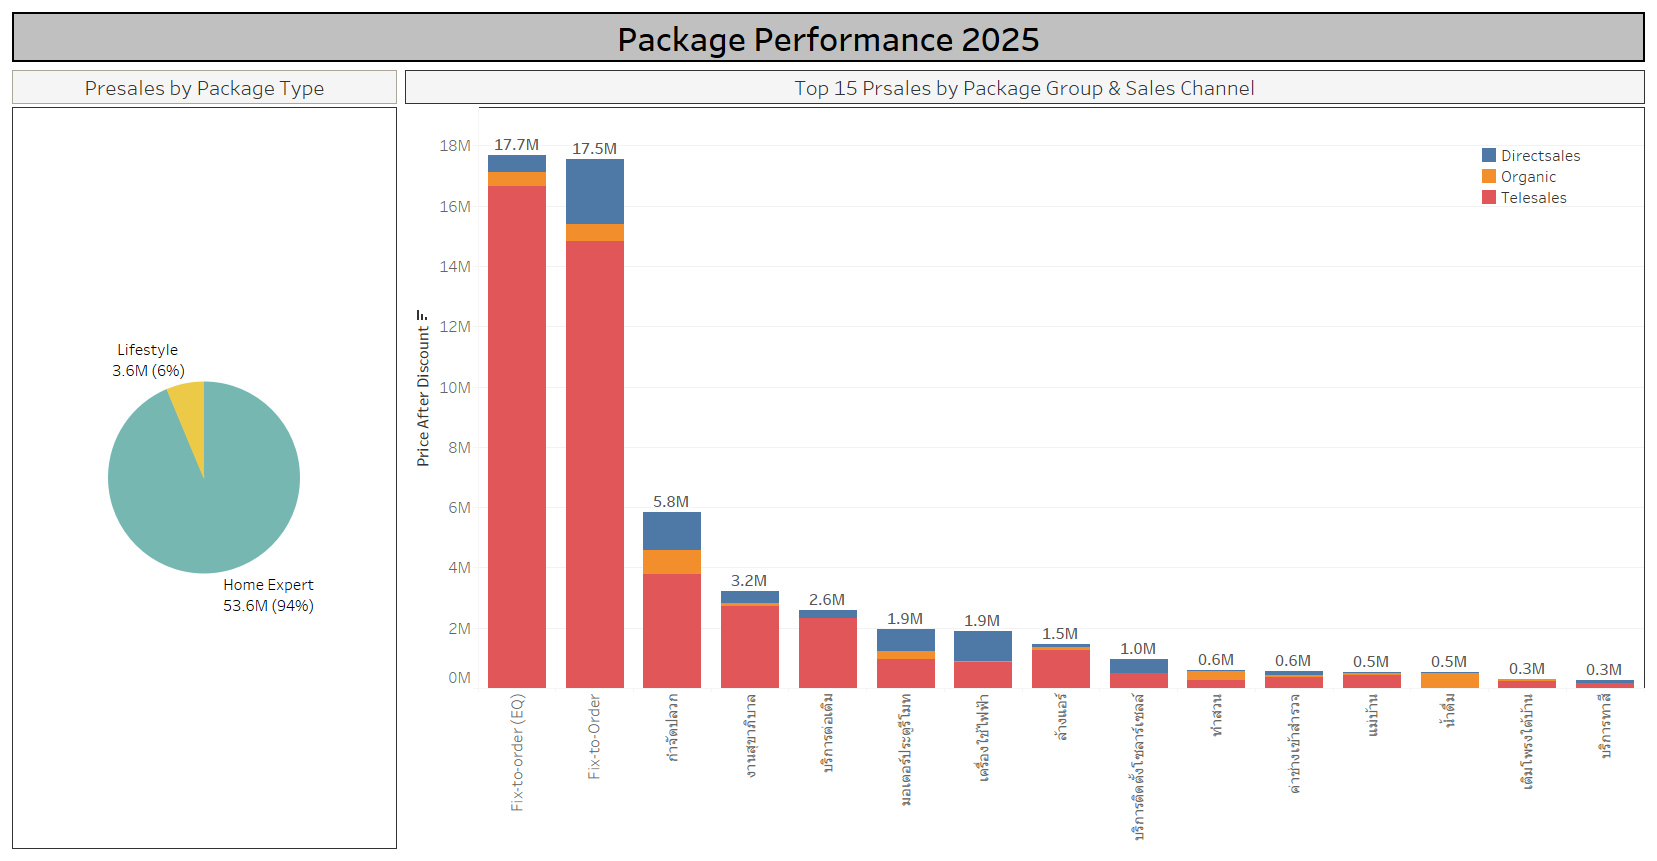

Layout of this report page (visuals, bound fields, positions):
{"tool":"tableau","page":{"name":"Dashboard 2","canvas":[1000,1000],"units":"permille","ordinal":1},"visuals":[{"type":"text","box":[4.8,9.3,990.3,67.3]},{"type":"worksheet","title":"Presales by Package Type","mark":"Pie","box":[4.8,76.6,237.1,914.1]},{"type":"worksheet","title":"Top 15 Prsales by Package Group & Sales Channel","mark":"Automatic","rows":["Price_After_Discount"],"cols":["Package_Group"],"box":[242,76.6,753.2,914.1]},{"type":"legend","title":"Top 15 Prsales by Package Group & Sales Channel","param":"[federated.0lcgbgx12ykgyj14rnm8q19yz148].[none:Sales_Channel:nk]","box":[892.6,168.4,86.9,96.4]}]}

Visuals, with their boxes on the dashboard's canvas, which has no fixed pixel size, in thousandths of its width and height (x1, y1, x2, y2). These are canvas units, not pixel positions in the 1657x861 screenshot, which may show the page scaled, cropped or inside an application window:
text: box=[5, 9, 995, 77]
"Presales by Package Type" worksheet (Pie marks): box=[5, 77, 242, 991]
"Top 15 Prsales by Package Group & Sales Channel" worksheet: box=[242, 77, 995, 991]
"Top 15 Prsales by Package Group & Sales Channel" legend: box=[893, 168, 980, 265]
